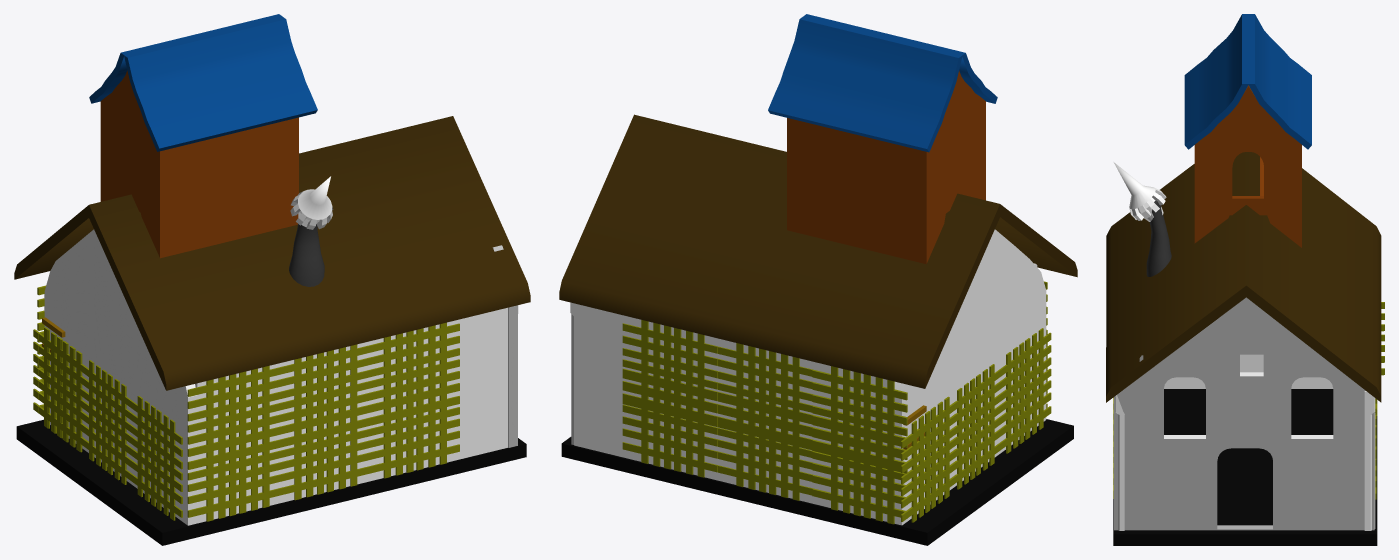
File: SHED2.0.fbx
The picture shows the model from 3 angles, left to right: view 1: azimuth 30°, elevation 25°; view 2: azimuth 150°, elevation 25°; view 3: azimuth 270°, elevation 25°; orthographic projection. The views are drawn at different scales.
Visible parts, largest first — view 1: pCube150; view 2: pCube150; view 3: pCube150.
Part boxes in pixels (x1,y1,x2,y2): pCube150: (14,14,530,545); pCube150: (559,14,1077,545); pCube150: (1106,14,1384,545).
Size of the model in its own units: 1919 by 2151 by 1404.
